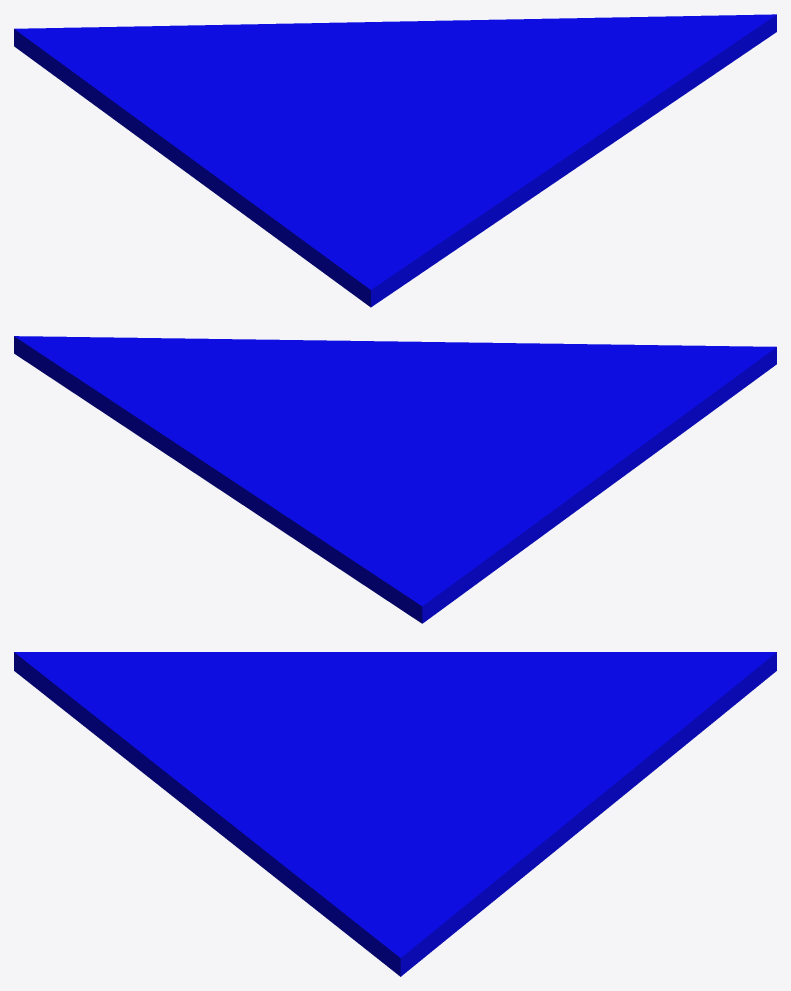
File: trian_blue.dae
The picture shows the model from 3 angles, top to bottom: view 1: azimuth 30°, elevation 25°; view 2: azimuth 150°, elevation 25°; view 3: azimuth 270°, elevation 25°; orthographic projection. The views are drawn at different scales.
Visible parts, largest first — view 1: SketchUp; view 2: SketchUp; view 3: SketchUp.
Boxes of the visible parts, left/top/right/bottom form: SketchUp: left=14, top=14, right=776, bottom=307; SketchUp: left=14, top=336, right=776, bottom=623; SketchUp: left=14, top=652, right=776, bottom=976.
Bounding box in the file's own units: 69.91 × 73.62 × 2.
